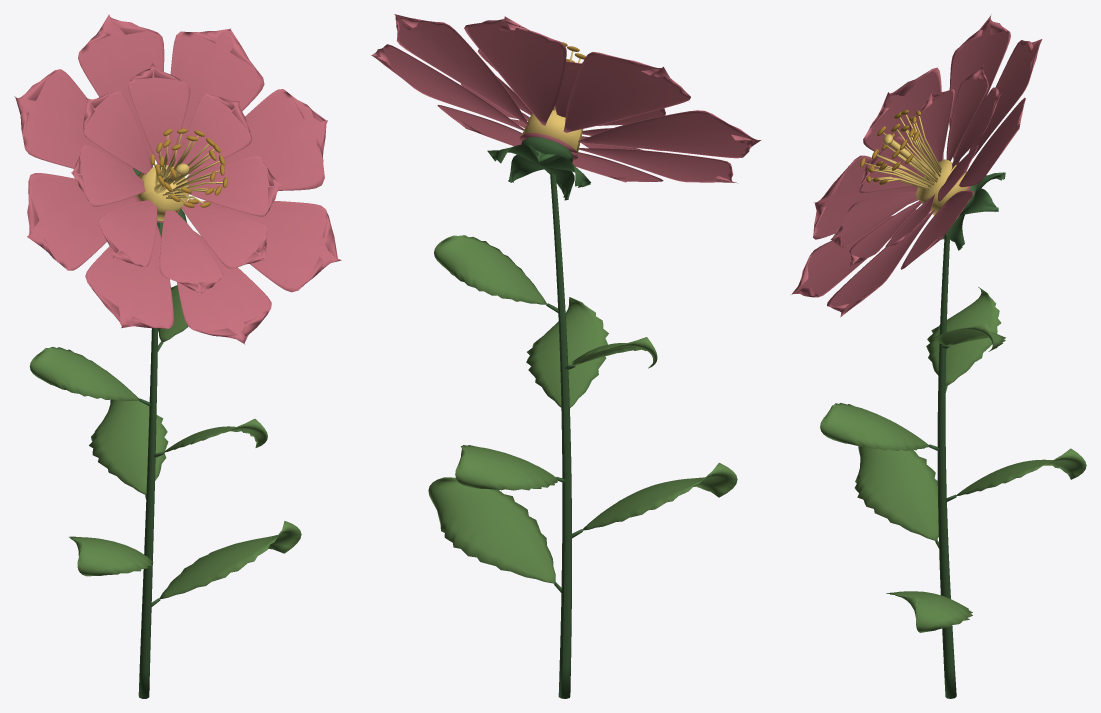
Rendered from camellia-fine-v2.glb.
The picture shows the model from 3 angles, left to right: view 1: azimuth 30°, elevation 25°; view 2: azimuth 150°, elevation 25°; view 3: azimuth 270°, elevation 25°; orthographic projection. The views are drawn at different scales.
Visible parts, largest first — view 1: camellia-fine-v2-petal, camellia-fine-v2-leaf, camellia-fine-v2-stem, camellia-fine-v2-center, camellia-fine-v2-pollen; view 2: camellia-fine-v2-petal, camellia-fine-v2-leaf, camellia-fine-v2-stem, camellia-fine-v2-center; view 3: camellia-fine-v2-petal, camellia-fine-v2-leaf, camellia-fine-v2-stem, camellia-fine-v2-center, camellia-fine-v2-pollen.
Boxes of the visible parts, <box> form: camellia-fine-v2-petal: <box>14,14,341,344</box>; camellia-fine-v2-leaf: <box>29,285,301,599</box>; camellia-fine-v2-stem: <box>133,168,186,698</box>; camellia-fine-v2-center: <box>135,133,222,221</box>; camellia-fine-v2-pollen: <box>150,128,227,207</box>; camellia-fine-v2-petal: <box>371,14,761,183</box>; camellia-fine-v2-leaf: <box>428,235,737,583</box>; camellia-fine-v2-stem: <box>487,137,590,698</box>; camellia-fine-v2-center: <box>521,51,583,154</box>; camellia-fine-v2-petal: <box>791,14,1042,317</box>; camellia-fine-v2-leaf: <box>820,287,1086,632</box>; camellia-fine-v2-stem: <box>929,172,1005,698</box>; camellia-fine-v2-center: <box>864,114,968,215</box>; camellia-fine-v2-pollen: <box>860,110,920,185</box>.
Bounding box in the file's own units: 1.03 × 1.94 × 0.7876.
